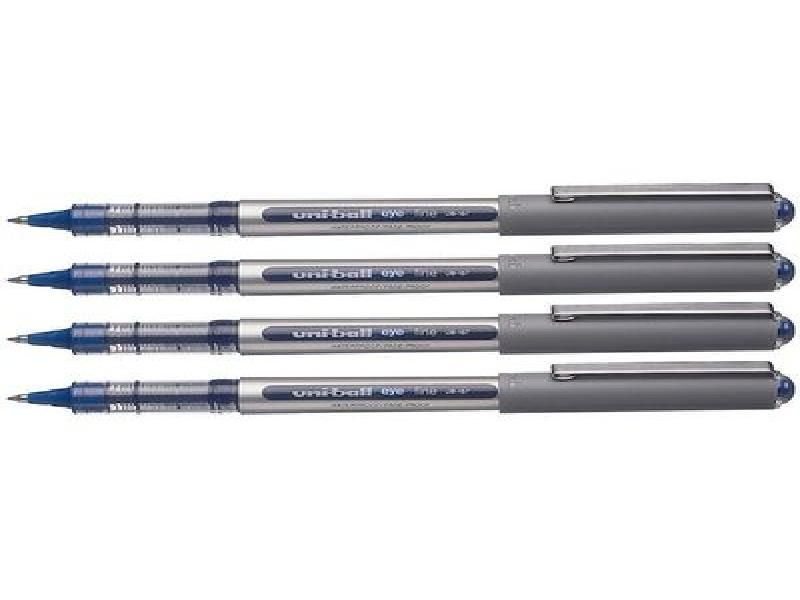pen: (4, 239, 800, 306), (3, 359, 800, 423), (4, 300, 800, 360), (4, 180, 799, 234)
